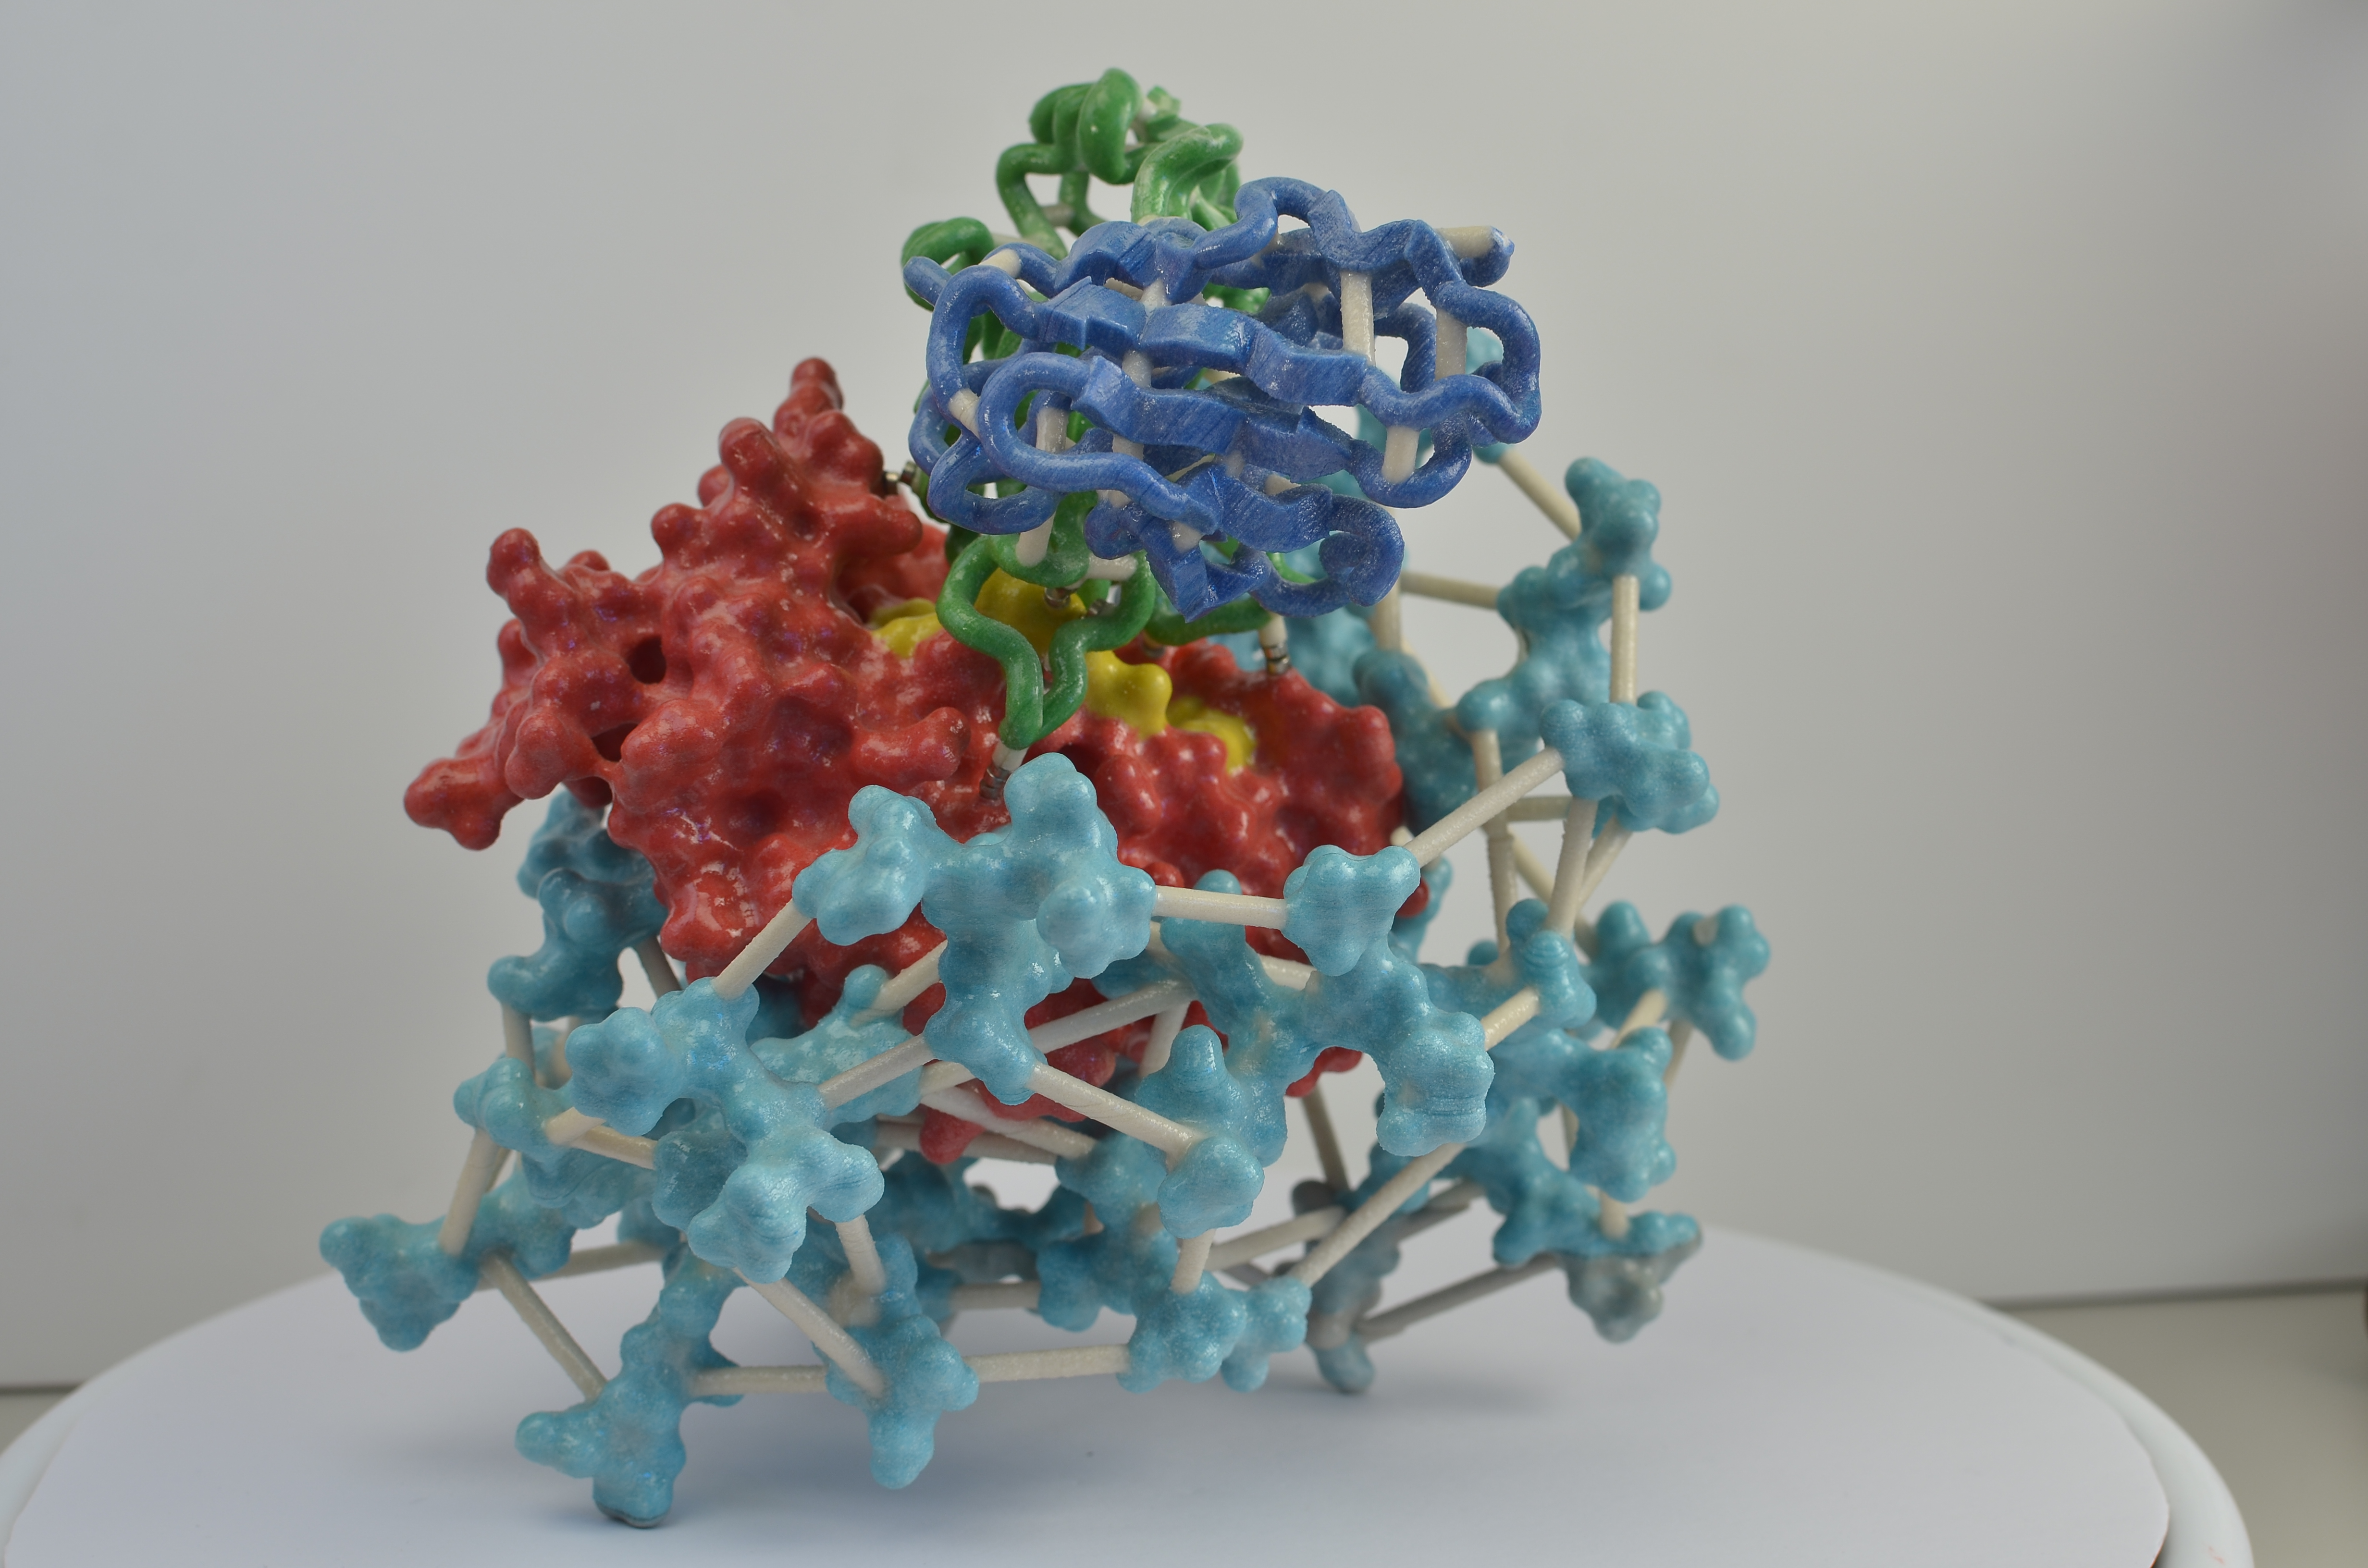COVID19: (326, 47, 1813, 1503)
